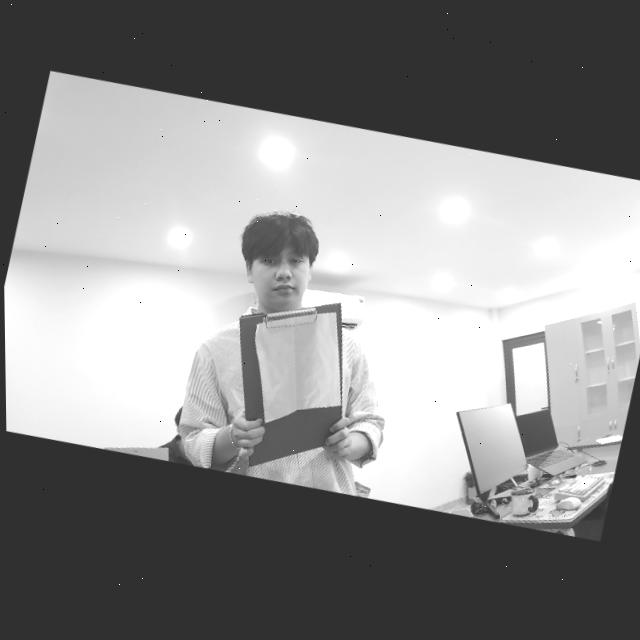face: (241, 227, 325, 317)
